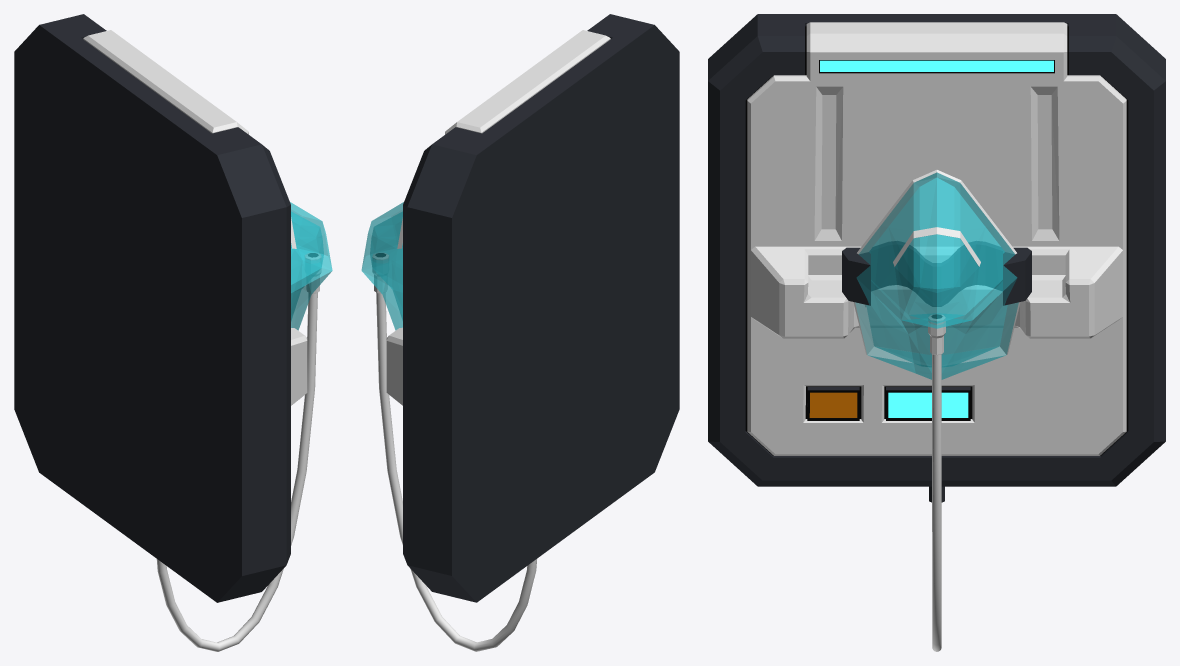
Rendered from SM_OxygenMask_WallUnit.fbx.
The picture shows the model from 3 angles, left to right: view 1: azimuth 30°, elevation 25°; view 2: azimuth 150°, elevation 25°; view 3: azimuth 270°, elevation 25°; orthographic projection.
Parts seen in each view (by area): view 1: SM_OxygenMask_WallUnit; view 2: SM_OxygenMask_WallUnit; view 3: SM_OxygenMask_WallUnit.
Boxes of the visible parts, box(x1,y1,x2,y2) form: SM_OxygenMask_WallUnit: box(14, 14, 332, 651); SM_OxygenMask_WallUnit: box(361, 14, 679, 651); SM_OxygenMask_WallUnit: box(708, 14, 1165, 651).
Bounding box in the file's own units: 19.35 × 54.16 × 38.1.
